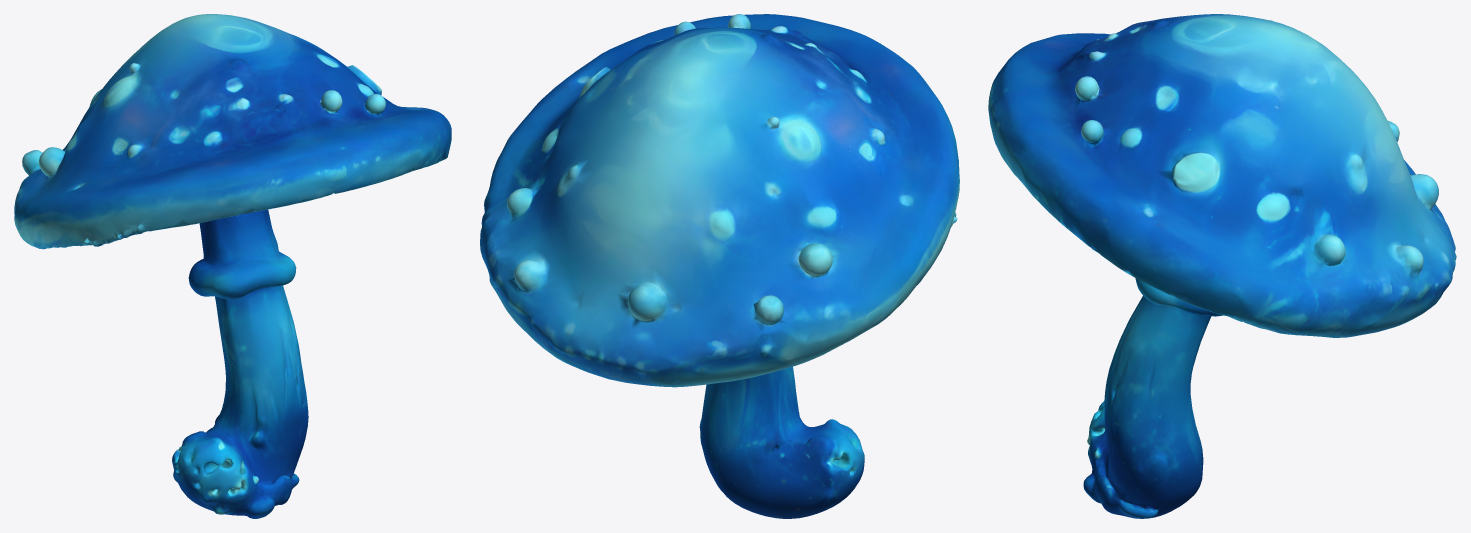
File: nature-mushroom-glow.glb
3 renders of one model, left to right at view 1: azimuth 30°, elevation 25°; view 2: azimuth 150°, elevation 25°; view 3: azimuth 270°, elevation 25°, orthographic. The views are drawn at different scales.
Parts seen in each view (by area): view 1: tripo_node_0aa3fbe4-e582-4283-a3d5-12ce7fd55f10; view 2: tripo_node_0aa3fbe4-e582-4283-a3d5-12ce7fd55f10; view 3: tripo_node_0aa3fbe4-e582-4283-a3d5-12ce7fd55f10.
Boxes of the visible parts, bbox=[...] form: tripo_node_0aa3fbe4-e582-4283-a3d5-12ce7fd55f10: bbox=[14, 14, 451, 518]; tripo_node_0aa3fbe4-e582-4283-a3d5-12ce7fd55f10: bbox=[480, 14, 959, 518]; tripo_node_0aa3fbe4-e582-4283-a3d5-12ce7fd55f10: bbox=[988, 14, 1456, 518].
Bounding box in the file's own units: 0.4567 × 0.4999 × 0.4309.
Materials: 1 (1 with a texture image).
